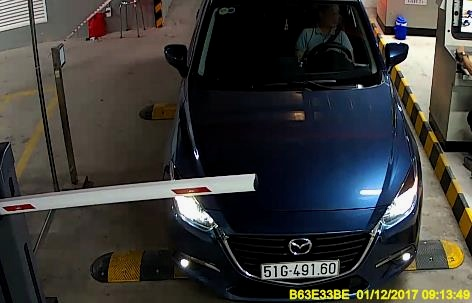plate: (258, 256, 343, 283)
